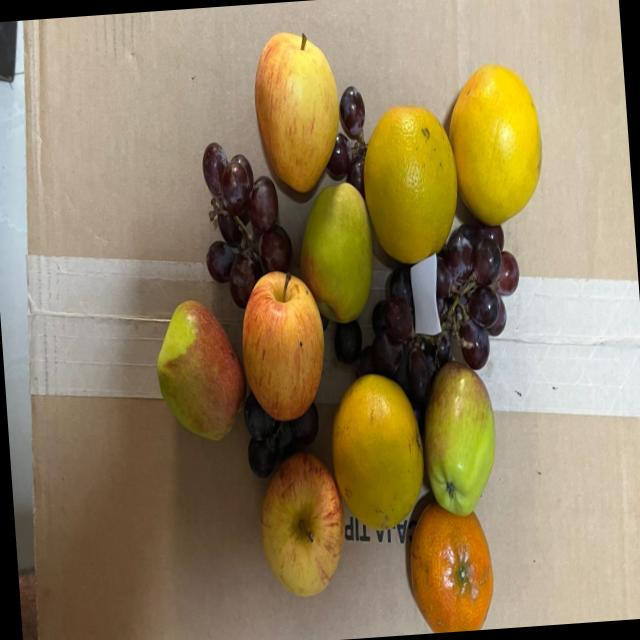hoja: (402, 252, 439, 350)
